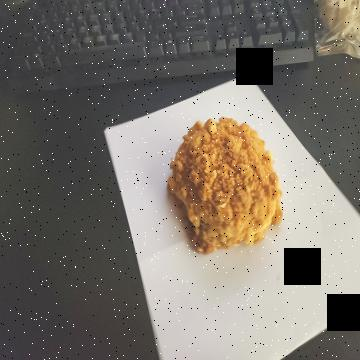soboru_bread: (164, 115, 285, 262)
